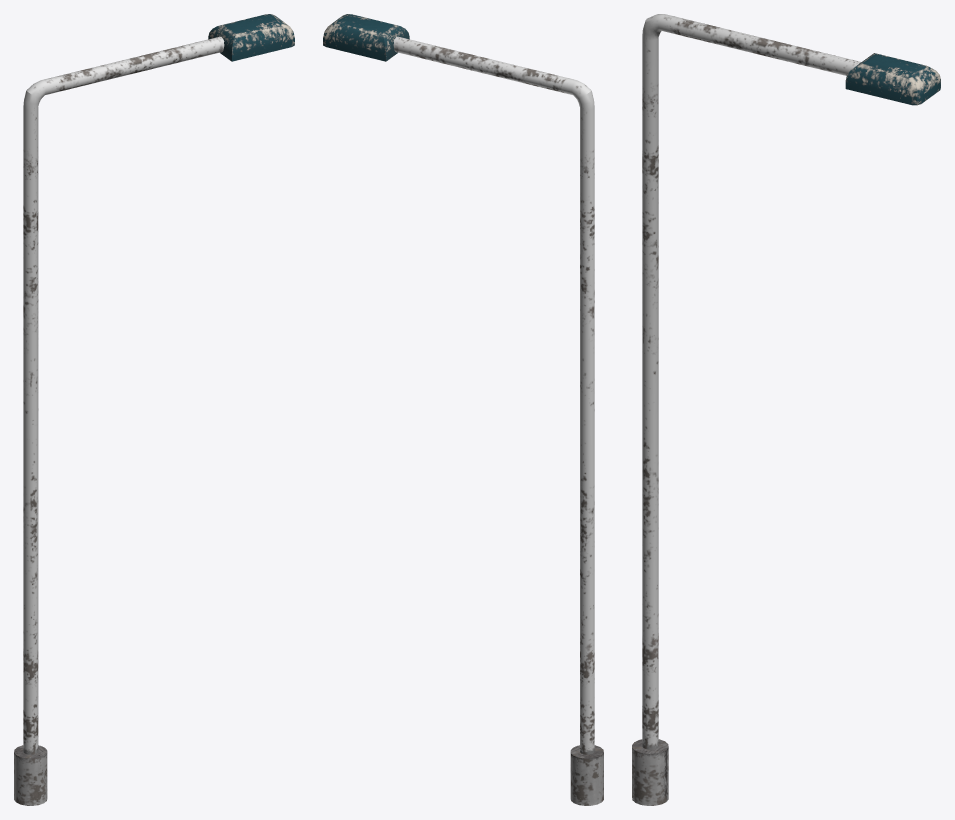
Rendered from PosteA.fbx.
3 renders of one model, left to right at view 1: azimuth 30°, elevation 25°; view 2: azimuth 150°, elevation 25°; view 3: azimuth 330°, elevation 25°, orthographic. The views are drawn at different scales.
Visible parts, largest first — view 1: PosteA; view 2: PosteA; view 3: PosteA.
Part boxes in pixels (box(x1,y1,x2,y2)): PosteA: box(14, 14, 294, 805); PosteA: box(323, 14, 603, 805); PosteA: box(632, 14, 940, 805).
Bounding box in the file's own units: 204 × 521 × 30.82.
Materials: 1 (1 with a texture image).
